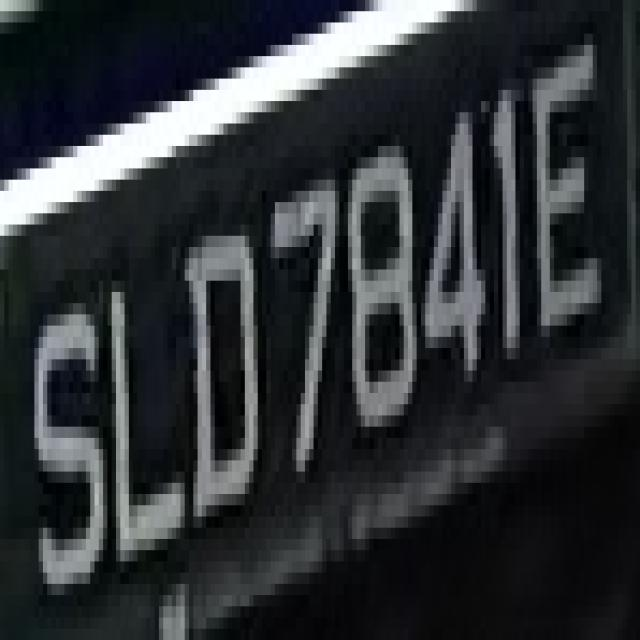1: (485, 45, 524, 415)
4: (417, 101, 494, 404)
7: (266, 157, 344, 494)
8: (344, 123, 421, 438)
D: (185, 191, 262, 539)
E: (533, 45, 610, 370)
L: (108, 236, 180, 584)
S: (26, 303, 107, 618)
